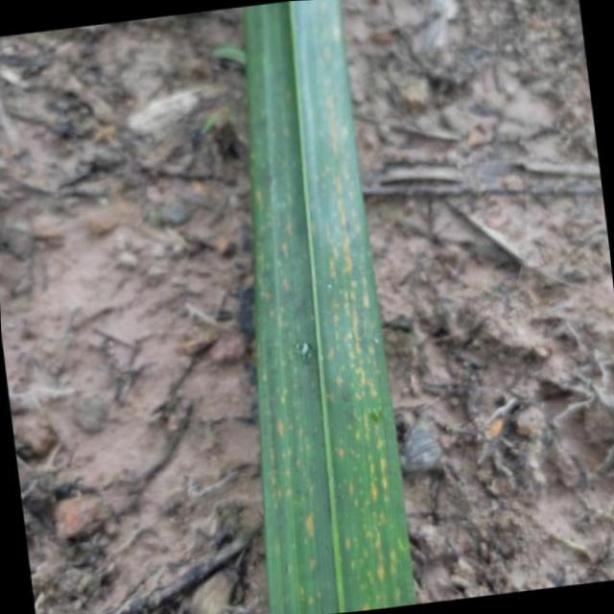Kalium: (242, 0, 422, 614)
